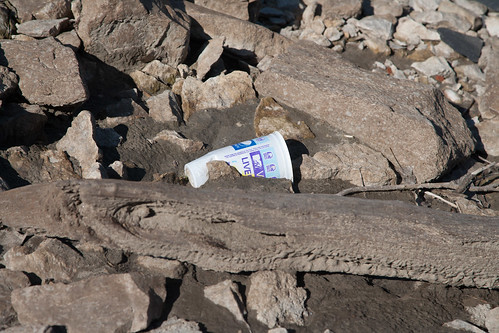rocks: (1, 1, 497, 325)
trash: (172, 114, 317, 211)
